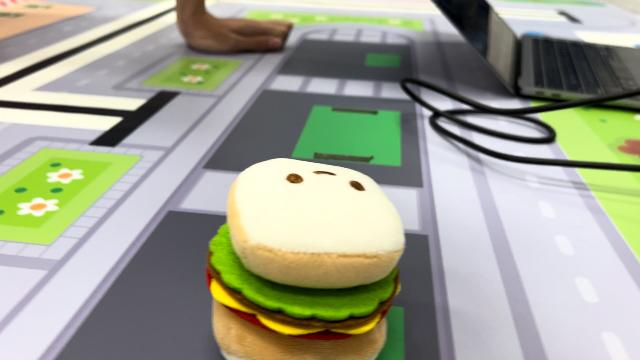sandwich: (205, 155, 408, 347)
